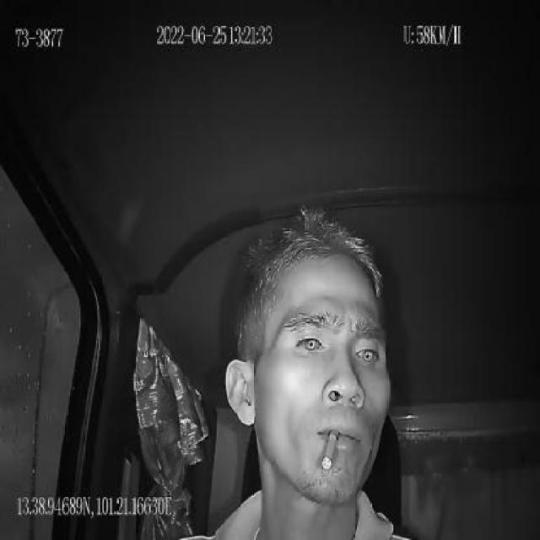smoking: (319, 427, 337, 472)
